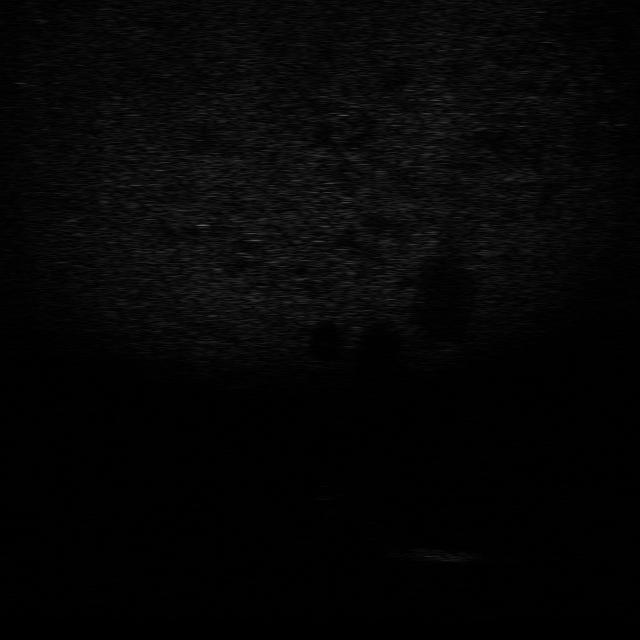ball: (304, 480, 344, 502)
metal bucket: (405, 542, 479, 565)
tyre: (356, 510, 409, 560)
